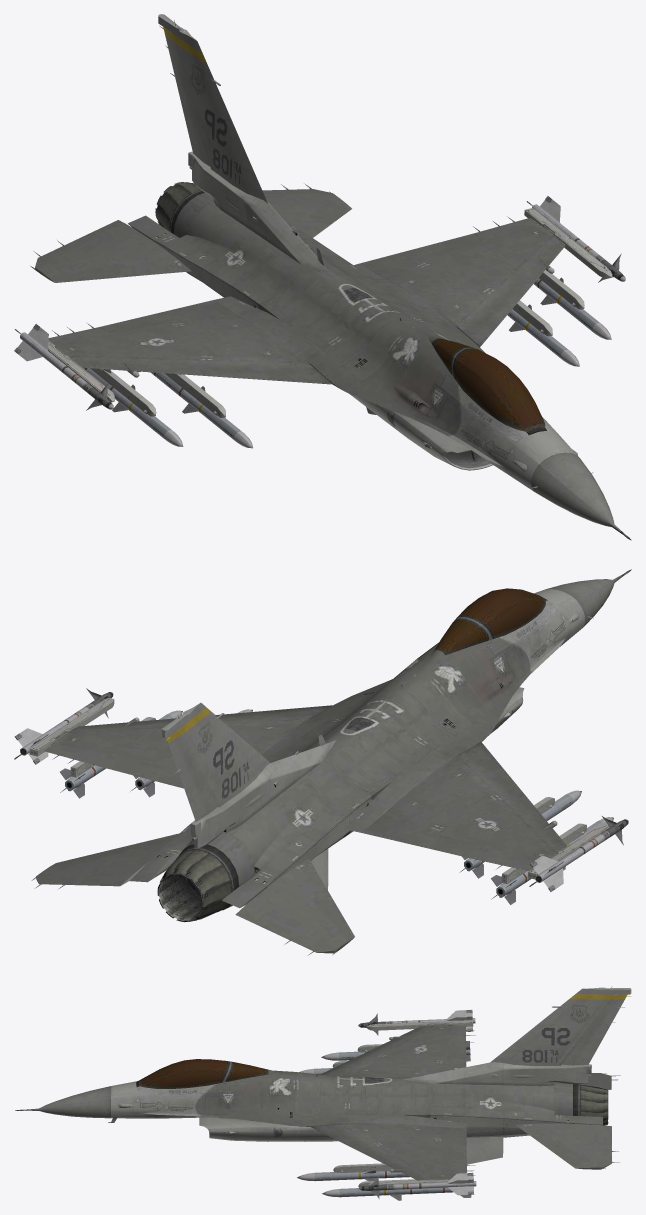
3 renders of one model, top to bottom at view 1: azimuth 30°, elevation 25°; view 2: azimuth 150°, elevation 25°; view 3: azimuth 270°, elevation 25°, orthographic. The views are drawn at different scales.
Visible parts, largest first — view 1: DrawCall_0293.001; view 2: DrawCall_0293.001; view 3: DrawCall_0293.001.
Part boxes in pixels (left/top/right/bottom): DrawCall_0293.001: left=14, top=14, right=631, bottom=540; DrawCall_0293.001: left=14, top=569, right=631, bottom=955; DrawCall_0293.001: left=15, top=986, right=631, bottom=1200.
Bounding box in the file's own units: 8.97 × 4.11 × 13.61.
Materials: 3 (3 with a texture image).
